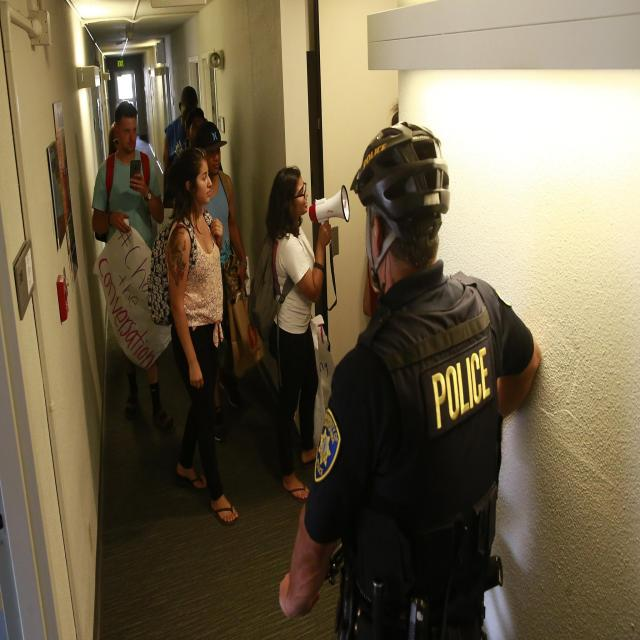body: (274, 116, 544, 639), (145, 142, 243, 524), (262, 167, 335, 502), (186, 119, 266, 381), (91, 100, 164, 256), (162, 84, 200, 203), (362, 258, 381, 324), (184, 105, 206, 148), (107, 119, 120, 159), (389, 99, 399, 124)
